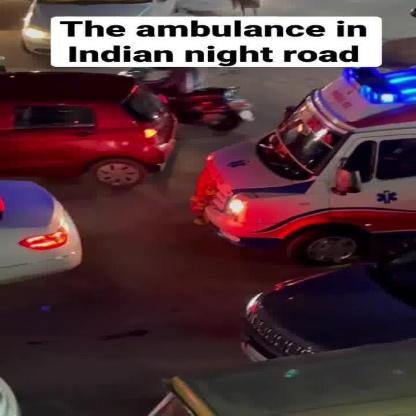priority: (186, 67, 412, 245)
